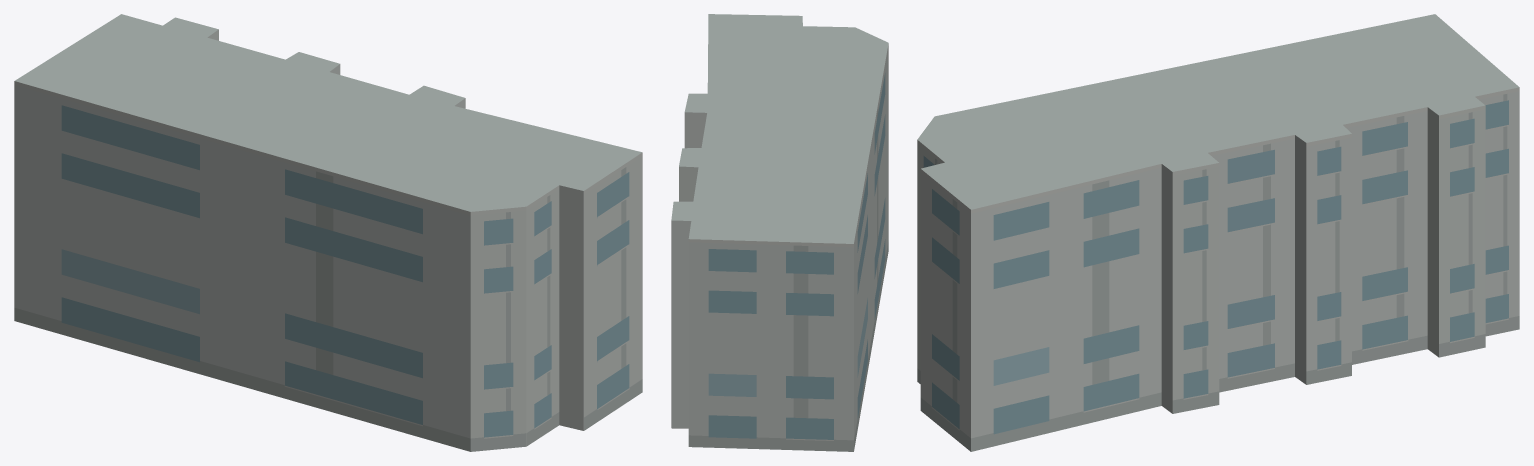
File: survey-upis-32816349.glb
3 views of the same model, side by side, from view 1: azimuth 30°, elevation 25°; view 2: azimuth 150°, elevation 25°; view 3: azimuth 270°, elevation 25° (orthographic). The views are drawn at different scales.
Parts seen in each view (by area): view 1: survey-upis-32816349.tmp; view 2: survey-upis-32816349.tmp; view 3: survey-upis-32816349.tmp.
Part boxes in pixels (x1,y1,x2,y2): survey-upis-32816349.tmp: (14,14,642,451); survey-upis-32816349.tmp: (671,14,888,451); survey-upis-32816349.tmp: (917,14,1519,451).
Size of the model in its own units: 26.48 by 15.25 by 34.41.
